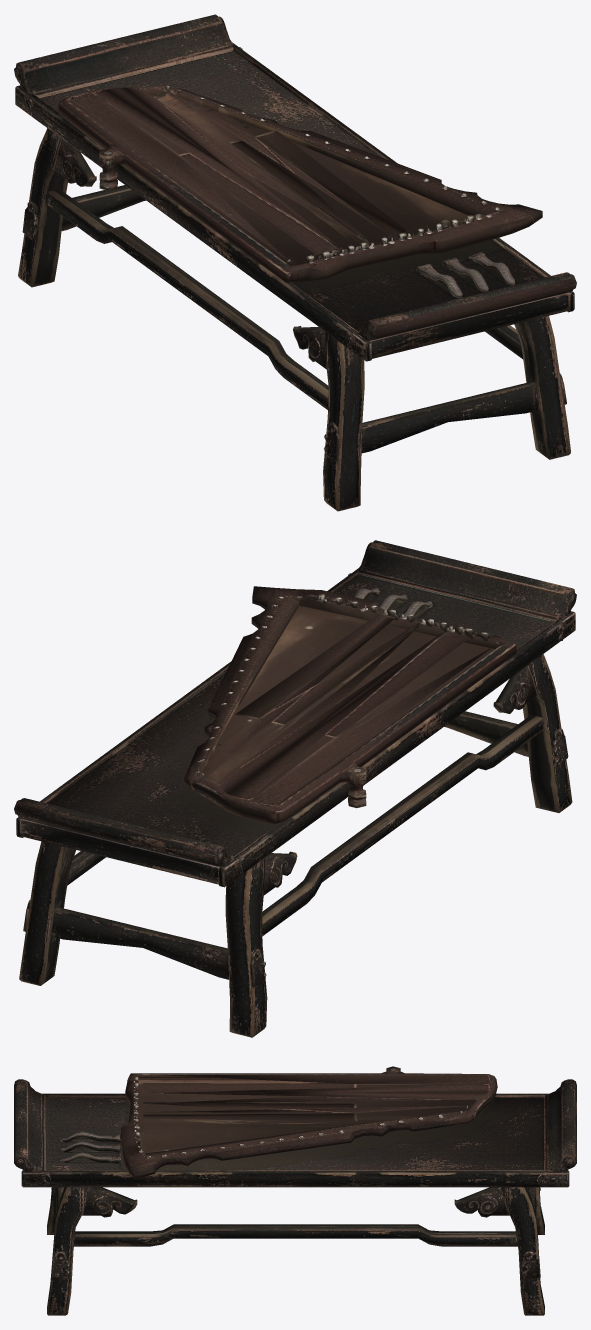
Rendered from tripo_convert_c39ab404-ec3e-4117-8757-1f2f70fd8e1d.fbx.
The picture shows the model from 3 angles, top to bottom: view 1: azimuth 30°, elevation 25°; view 2: azimuth 150°, elevation 25°; view 3: azimuth 270°, elevation 25°; orthographic projection. The views are drawn at different scales.
Visible parts, largest first — view 1: tripo_node_c39ab404; view 2: tripo_node_c39ab404; view 3: tripo_node_c39ab404.
Part boxes in pixels (x1=…): tripo_node_c39ab404: x1=14, y1=14, x2=576, y2=511; tripo_node_c39ab404: x1=14, y1=540, x2=576, y2=1037; tripo_node_c39ab404: x1=14, y1=1066, x2=576, y2=1315.
Bounding box in the file's own units: 0.4434 × 0.3145 × 0.998.
Materials: 1 (1 with a texture image).
